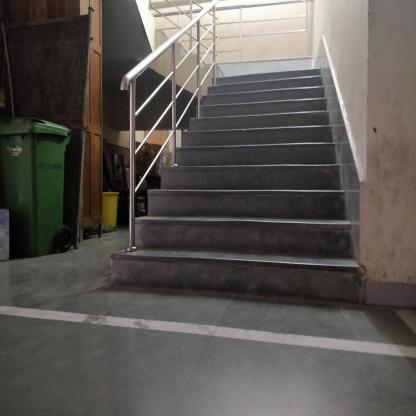stairs: (155, 168, 327, 314)
